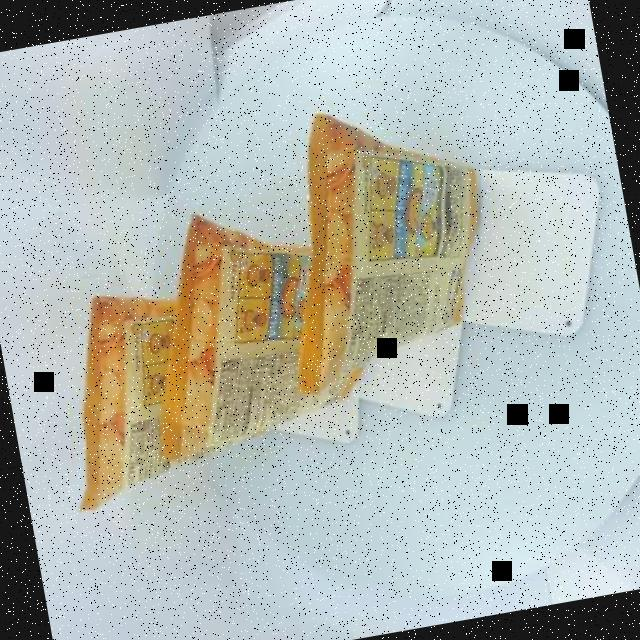snack_bag: (6, 68, 543, 540)
